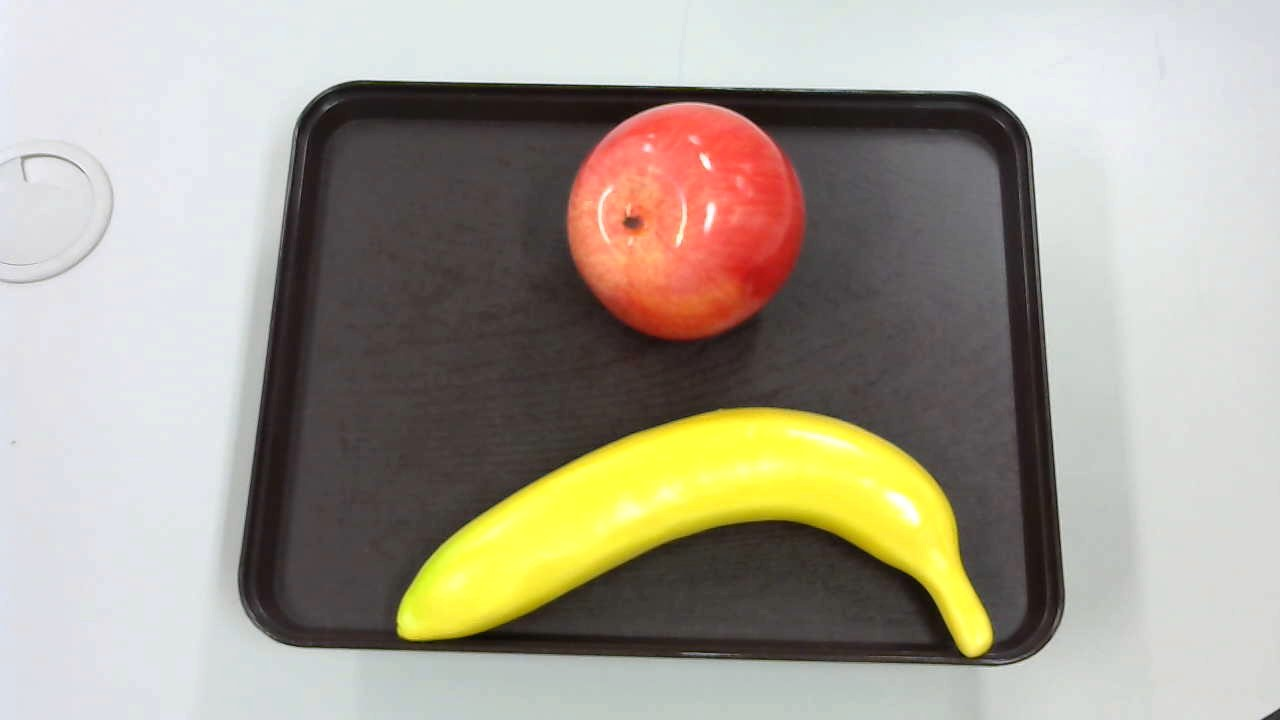banana: (387, 405, 1002, 656)
red apple: (561, 103, 808, 347)
